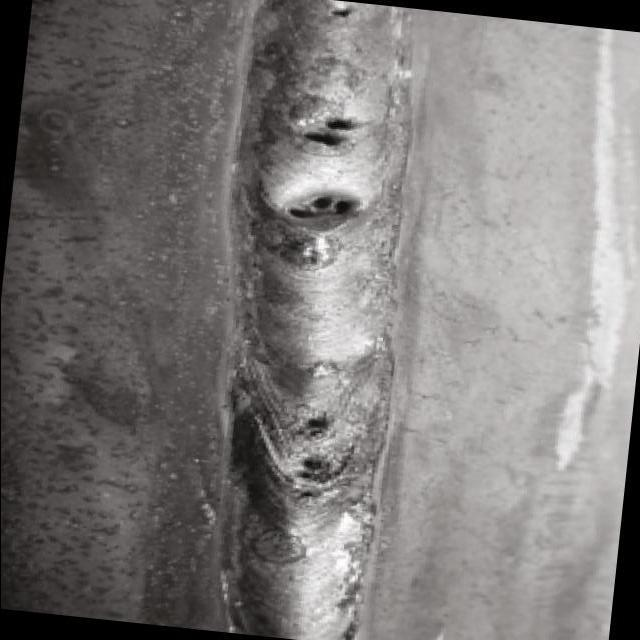defect: (265, 188, 372, 234), (284, 111, 376, 155), (280, 453, 353, 505), (285, 408, 344, 442), (318, 1, 355, 24)
